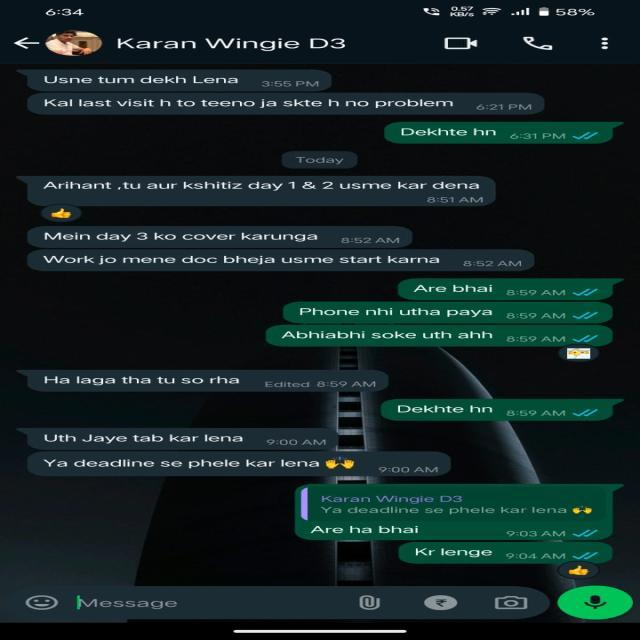scam: (38, 92, 466, 114), (34, 179, 484, 199), (32, 254, 454, 273), (41, 451, 367, 473), (29, 230, 348, 248), (36, 426, 257, 448), (32, 70, 291, 87), (29, 372, 262, 389)
